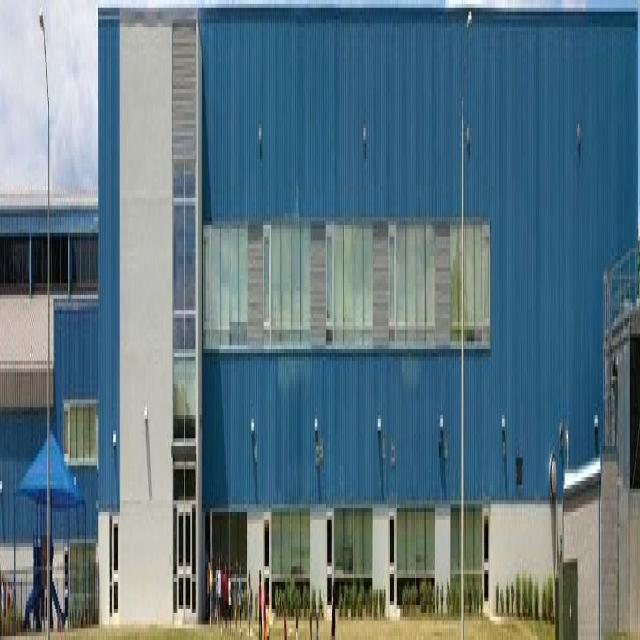door: (176, 499, 192, 632), (110, 517, 121, 636), (481, 507, 491, 618), (388, 502, 397, 622), (262, 507, 271, 618), (326, 505, 334, 622)
window: (201, 224, 248, 352), (388, 217, 435, 344), (324, 217, 371, 344), (262, 215, 309, 342), (449, 217, 490, 346), (0, 246, 96, 300), (172, 163, 195, 354), (64, 402, 98, 466)
